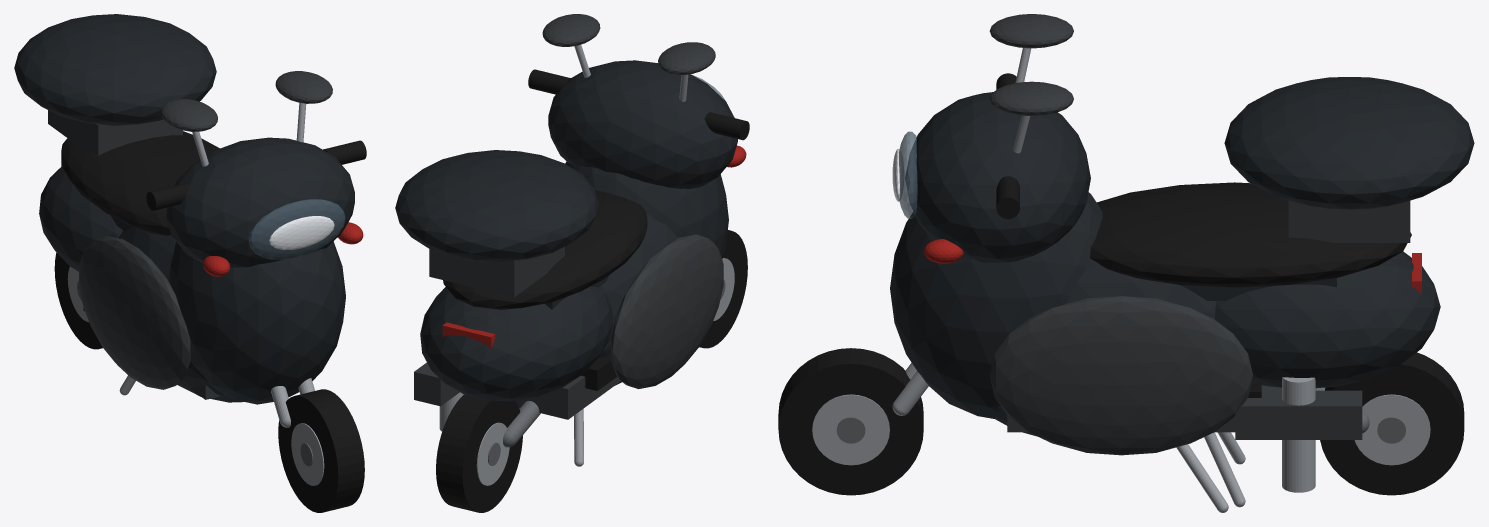
Rendered from black_scooter.glb.
The picture shows the model from 3 angles, left to right: view 1: azimuth 30°, elevation 25°; view 2: azimuth 150°, elevation 25°; view 3: azimuth 270°, elevation 25°; orthographic projection. The views are drawn at different scales.
Parts seen in each view (by area): view 1: FrontFairing, TopCaseLid, HandleCowl, SidePanel-0.62, Seat, Front_Tire, RearBody, Headlight, TopCaseLower, CenterBody, HeadlightCore, Mirror-0.65 (+9 smaller); view 2: TopCaseLid, HandleCowl, RearBody, SidePanel-0.62, Seat, Rear_Tire, FrontFairing, TopCaseLower, CenterBody, Front_Tire, LowerFrame, Mirror-0.65 (+10 smaller); view 3: SidePanel0.62, TopCaseLid, HandleCowl, Seat, FrontFairing, RearBody, Front_Tire, Rear_Tire, ExhaustShield, TopCaseLower, Front_Rim, Rear_Rim (+9 smaller).
Part boxes in pixels (left/top/right/bottom): FrontFairing: left=169, top=241, right=345, bottom=404; TopCaseLid: left=14, top=14, right=216, bottom=125; HandleCowl: left=166, top=137, right=354, bottom=267; SidePanel-0.62: left=79, top=236, right=190, bottom=389; Seat: left=61, top=131, right=219, bottom=235; Front_Tire: left=278, top=389, right=364, bottom=512; RearBody: left=39, top=166, right=122, bottom=271; Headlight: left=248, top=199, right=345, bottom=259; TopCaseLower: left=48, top=110, right=182, bottom=155; CenterBody: left=119, top=227, right=243, bottom=402; HeadlightCore: left=269, top=216, right=334, bottom=249; Mirror-0.65: left=160, top=99, right=217, bottom=131; TopCaseLid: left=395, top=150, right=598, bottom=262; HandleCowl: left=548, top=60, right=737, bottom=188; RearBody: left=420, top=286, right=613, bottom=401; SidePanel-0.62: left=611, top=234, right=723, bottom=389; Seat: left=443, top=190, right=647, bottom=309; Rear_Tire: left=436, top=394, right=522, bottom=512; FrontFairing: left=565, top=161, right=728, bottom=259; TopCaseLower: left=429, top=246, right=564, bottom=297; CenterBody: left=598, top=213, right=678, bottom=385; Front_Tire: left=699, top=230, right=747, bottom=348; LowerFrame: left=515, top=375, right=620, bottom=419; Mirror-0.65: left=658, top=42, right=715, bottom=74; SidePanel0.62: left=989, top=296, right=1252, bottom=455; TopCaseLid: left=1224, top=77, right=1474, bottom=209; HandleCowl: left=905, top=92, right=1090, bottom=262; Seat: left=1090, top=182, right=1411, bottom=287; FrontFairing: left=890, top=192, right=1102, bottom=418; RearBody: left=1214, top=251, right=1440, bottom=388; Front_Tire: left=778, top=348, right=923, bottom=495; Rear_Tire: left=1320, top=352, right=1464, bottom=495; ExhaustShield: left=1235, top=390, right=1362, bottom=439; TopCaseLower: left=1288, top=200, right=1410, bottom=242; Front_Rim: left=812, top=394, right=889, bottom=465; Rear_Rim: left=1354, top=394, right=1430, bottom=465.
Size of the model in its own units: 1.74 by 2.83 by 4.12.
